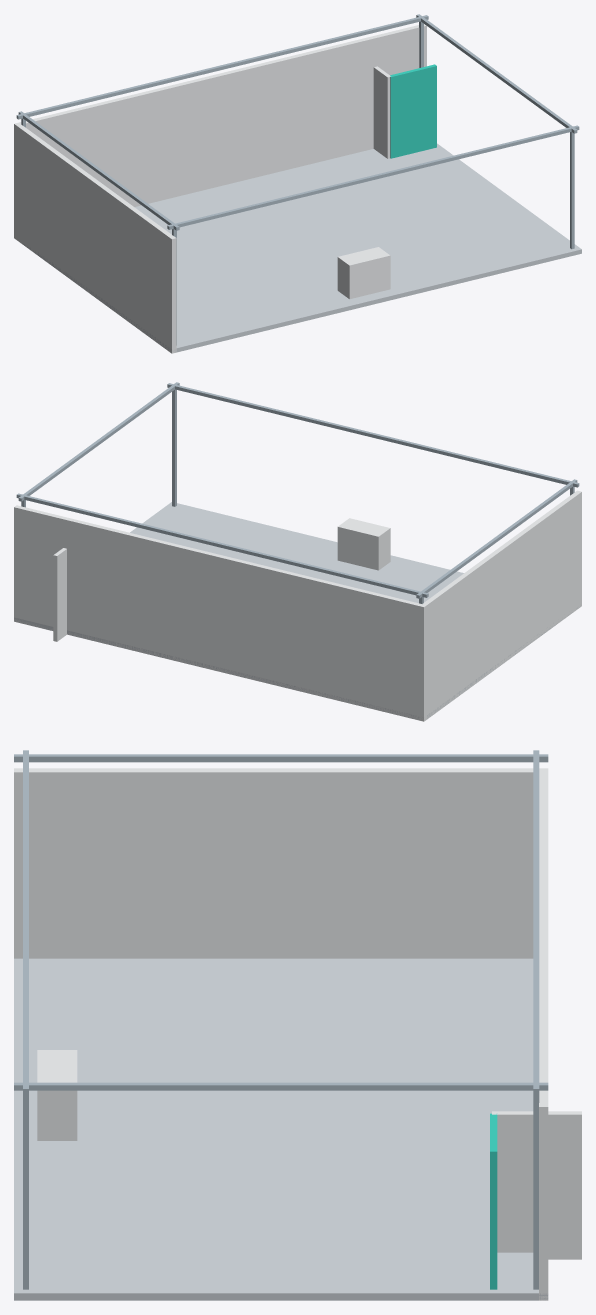
The picture shows the model from 3 angles, top to bottom: view 1: azimuth 30°, elevation 25°; view 2: azimuth 150°, elevation 25°; view 3: azimuth 270°, elevation 25°; orthographic projection. The views are drawn at different scales.
Visible parts, largest first — view 1: Exhibition Booth Concept; view 2: Exhibition Booth Concept; view 3: Exhibition Booth Concept.
Boxes of the visible parts, x1=… form: Exhibition Booth Concept: x1=14, y1=14, x2=581, y2=353; Exhibition Booth Concept: x1=14, y1=382, x2=581, y2=721; Exhibition Booth Concept: x1=14, y1=750, x2=581, y2=1300.
Bounding box in the file's own units: 12 × 3.49 × 8.51.
